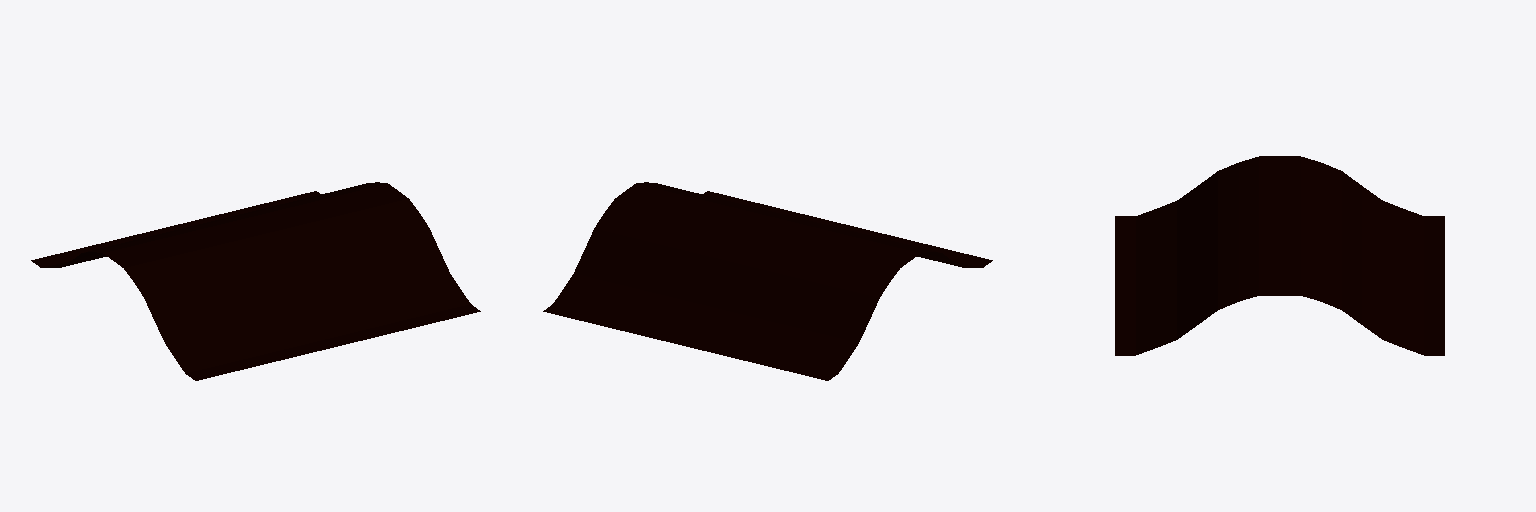
The model's file is dirt.obj.
3 renders of one model, left to right at view 1: azimuth 30°, elevation 25°; view 2: azimuth 150°, elevation 25°; view 3: azimuth 270°, elevation 25°, orthographic.
Visible parts, largest first — view 1: Plane; view 2: Plane; view 3: Plane.
Boxes of the visible parts, x1=… form: Plane: x1=31, y1=182, x2=480, y2=380; Plane: x1=543, y1=182, x2=992, y2=380; Plane: x1=1115, y1=156, x2=1444, y2=355.
Bounding box in the file's own units: 2 × 0.402 × 2.